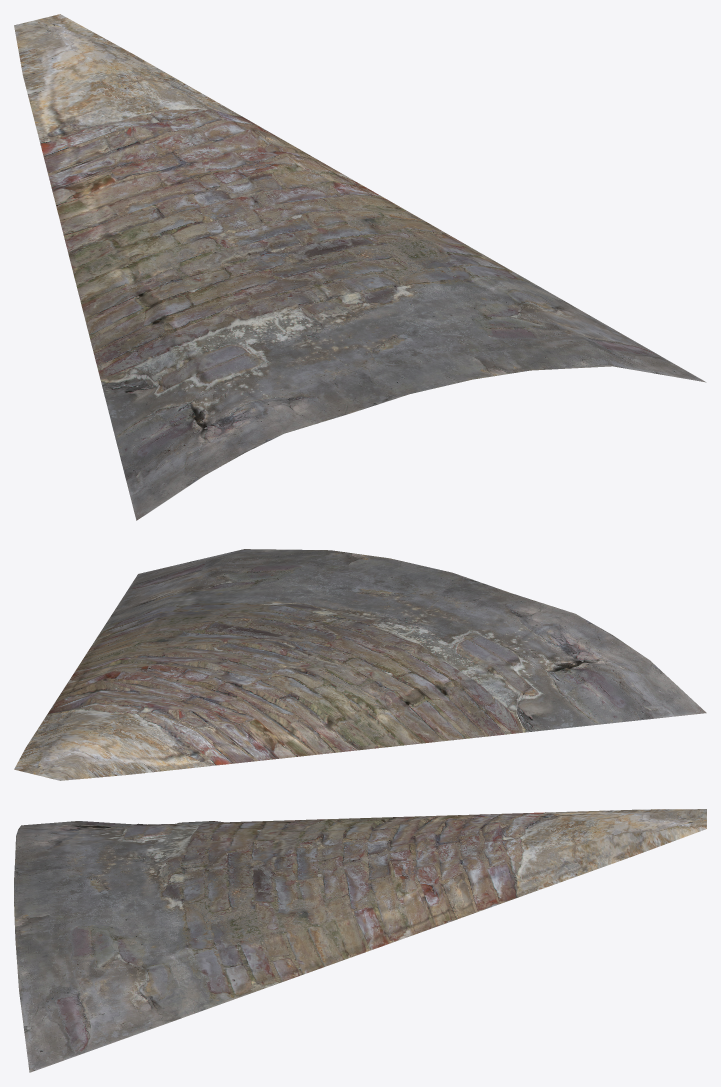
The model's file is SM_CryptCeiling_02_03.fbx.
3 renders of one model, top to bottom at view 1: azimuth 30°, elevation 25°; view 2: azimuth 150°, elevation 25°; view 3: azimuth 270°, elevation 25°, orthographic. The views are drawn at different scales.
Parts seen in each view (by area): view 1: sm_CryptCeiling_02_03_LOD0; view 2: sm_CryptCeiling_02_03_LOD0; view 3: sm_CryptCeiling_02_03_LOD0.
Boxes of the visible parts, box(x1,y1,x2,y2) form: sm_CryptCeiling_02_03_LOD0: box(14, 14, 706, 520); sm_CryptCeiling_02_03_LOD0: box(14, 549, 706, 780); sm_CryptCeiling_02_03_LOD0: box(14, 809, 706, 1072).
Size of the model in its own units: 301 by 251 by 63.18.
